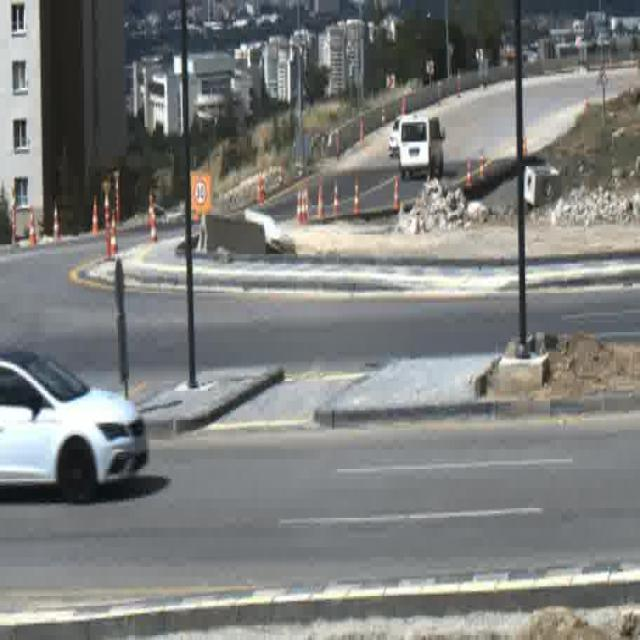Car: (0, 351, 148, 498), (400, 118, 446, 179), (387, 117, 400, 158)
